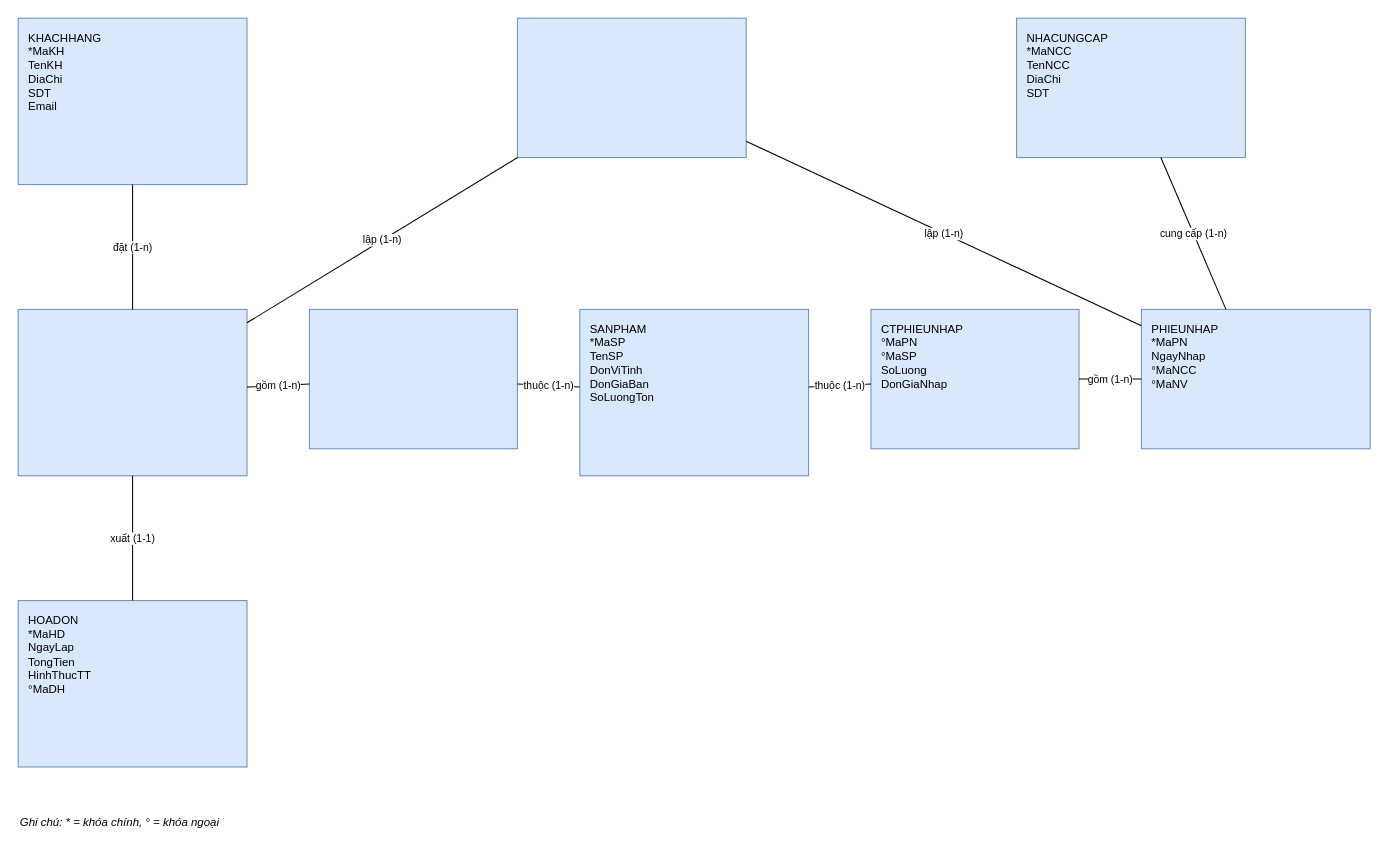
This 1388x858 diagram has some shape labels left out. The shapes that lost their labels are listed below. From the top down, each one's box as (x1, y1, x2, y2) in pixels, then its label:
(516, 17, 746, 158): NHANVIEN *MaNV HoTen ChucVu SDT
(17, 308, 247, 476): DONHANG *MaDH NgayDat TrangThai °MaKH °MaNV
(308, 308, 517, 449): CTDONHANG °MaDH °MaSP SoLuong DonGia
